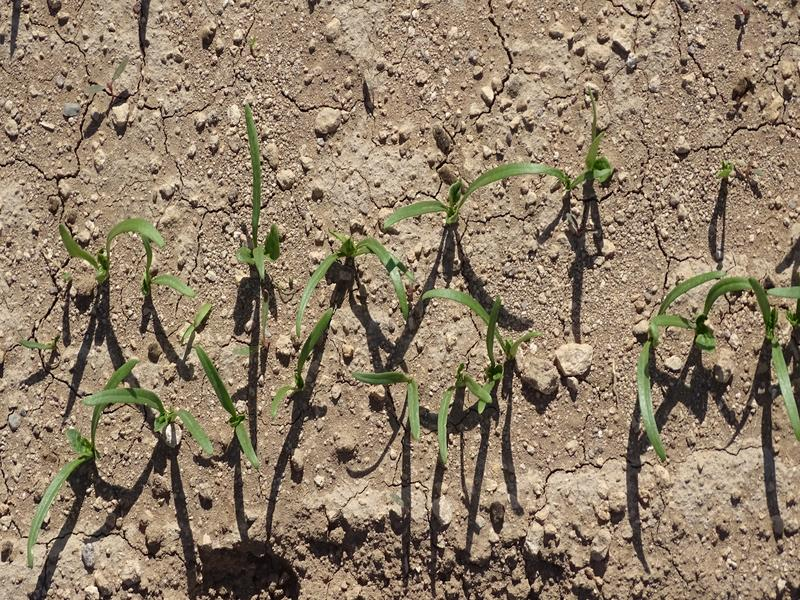Espinaca: (202, 306, 495, 459), (635, 250, 800, 443), (26, 359, 207, 520), (306, 183, 529, 306), (52, 217, 194, 302), (237, 108, 278, 279)
